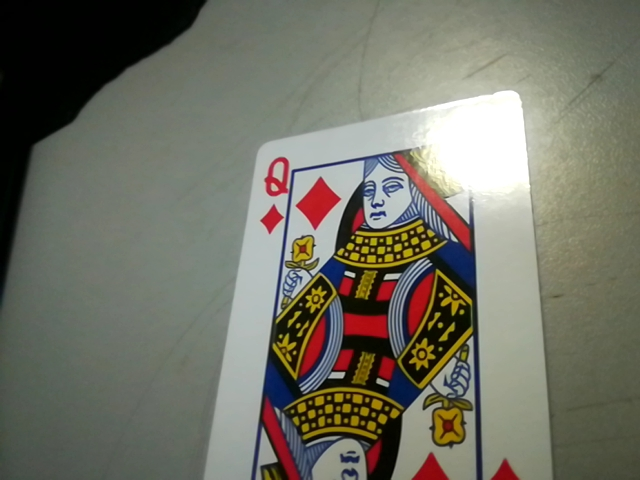fk q: (252, 150, 302, 236)
